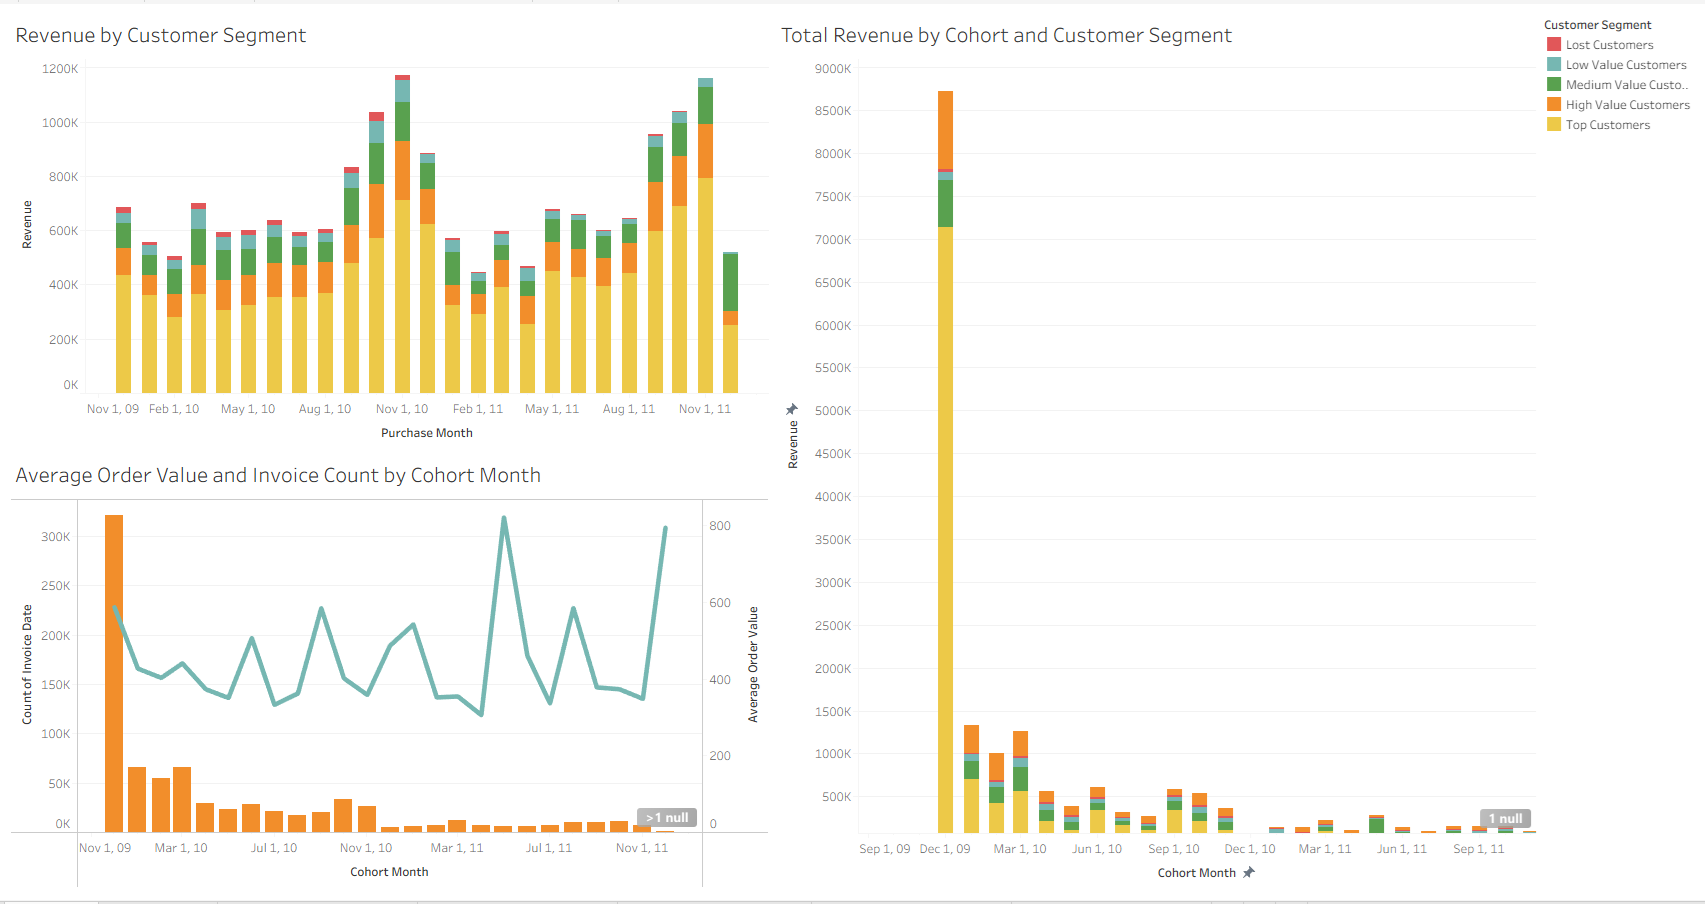

What the dashboard file says about the page in this screenshot:
{"tool":"tableau","page":{"name":"Customers","canvas":[1000,1000],"units":"permille","ordinal":0},"visuals":[{"type":"worksheet","title":"Revenue by Customer Segment","mark":"Bar","rows":["Revenue"],"cols":["PurchaseMonth"],"box":[4.7,8.9,448.5,491.1]},{"type":"worksheet","title":"Total Revenue by Cohort and Customer Segment","mark":"Bar","rows":["Revenue"],"cols":["Cohort Month"],"box":[453.2,8.9,448.5,982.1]},{"type":"legend","title":"Revenue by Customer Segment","param":"[federated.0rcgwqf1wkifqs11tyv1z0cq8ip3].[none:Customer Segment:nk]","box":[901.7,8.9,93.6,140.6]},{"type":"worksheet","title":"Average Order Value and Invoice Count by Cohort Month","mark":"Bar","rows":["InvoiceDate","Calculation_2378520632958977"],"cols":["Cohort Month"],"box":[4.7,500,448.5,491.1]}]}

Visuals, with their boxes on the dashboard's canvas, which has no fixed pixel size, in thousandths of its width and height (x1, y1, x2, y2). These are canvas units, not pixel positions in the 1705x904 screenshot, which may show the page scaled, cropped or inside an application window:
"Revenue by Customer Segment" worksheet (Bar marks): bbox(5, 9, 453, 500)
"Total Revenue by Cohort and Customer Segment" worksheet (Bar marks): bbox(453, 9, 902, 991)
"Revenue by Customer Segment" legend: bbox(902, 9, 995, 150)
"Average Order Value and Invoice Count by Cohort Month" worksheet (Bar marks): bbox(5, 500, 453, 991)
